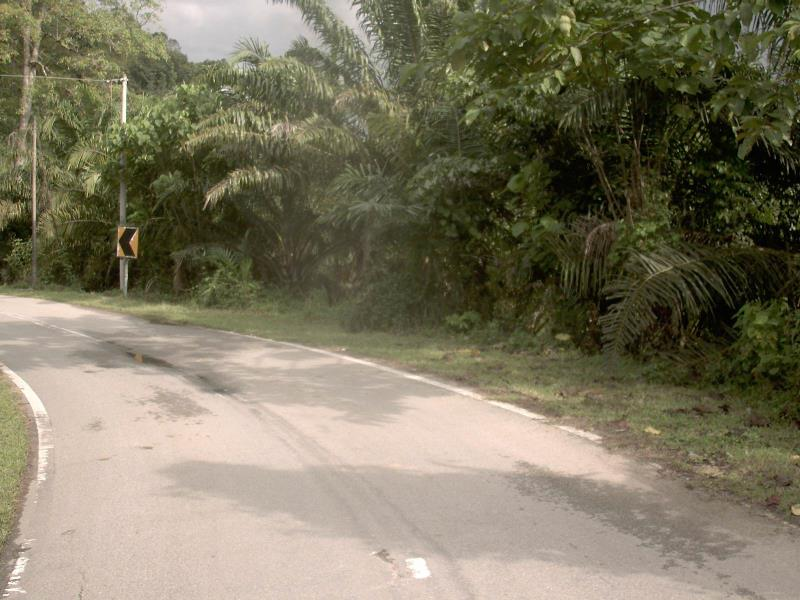traffic_sign: (110, 219, 145, 266)
